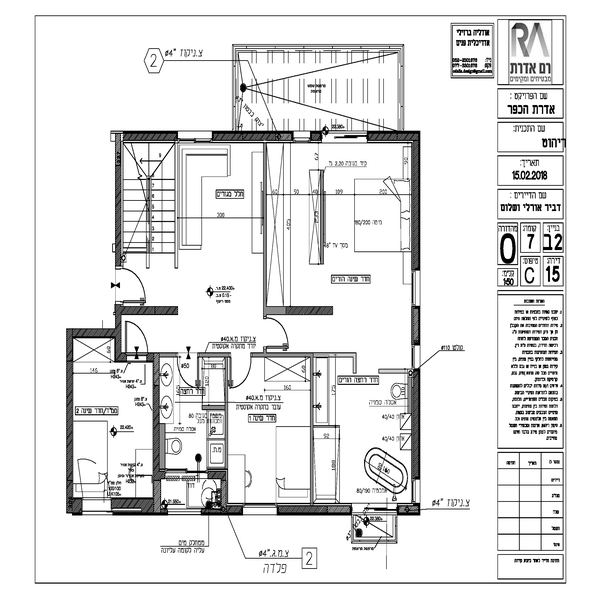door: (109, 269, 153, 309), (175, 346, 207, 395), (226, 355, 262, 393), (264, 313, 296, 353), (117, 320, 154, 354)
room: (258, 120, 423, 325), (110, 120, 274, 325), (155, 344, 317, 515), (57, 319, 173, 519), (308, 347, 414, 516)
wall: (407, 135, 424, 271), (263, 137, 275, 314), (150, 348, 163, 511), (408, 367, 424, 482), (66, 324, 75, 514), (114, 138, 126, 268), (212, 126, 294, 144), (264, 304, 337, 320), (280, 501, 350, 517), (114, 304, 181, 319), (365, 129, 421, 144), (113, 493, 151, 514), (64, 324, 117, 339), (408, 305, 426, 345), (117, 133, 179, 144), (113, 302, 124, 361), (205, 508, 243, 518)
window: (179, 127, 211, 146), (410, 342, 428, 371), (412, 274, 425, 303)
